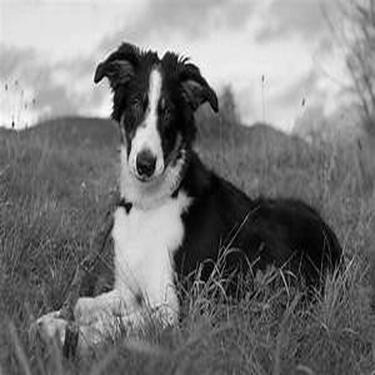dog: (24, 33, 350, 358)
